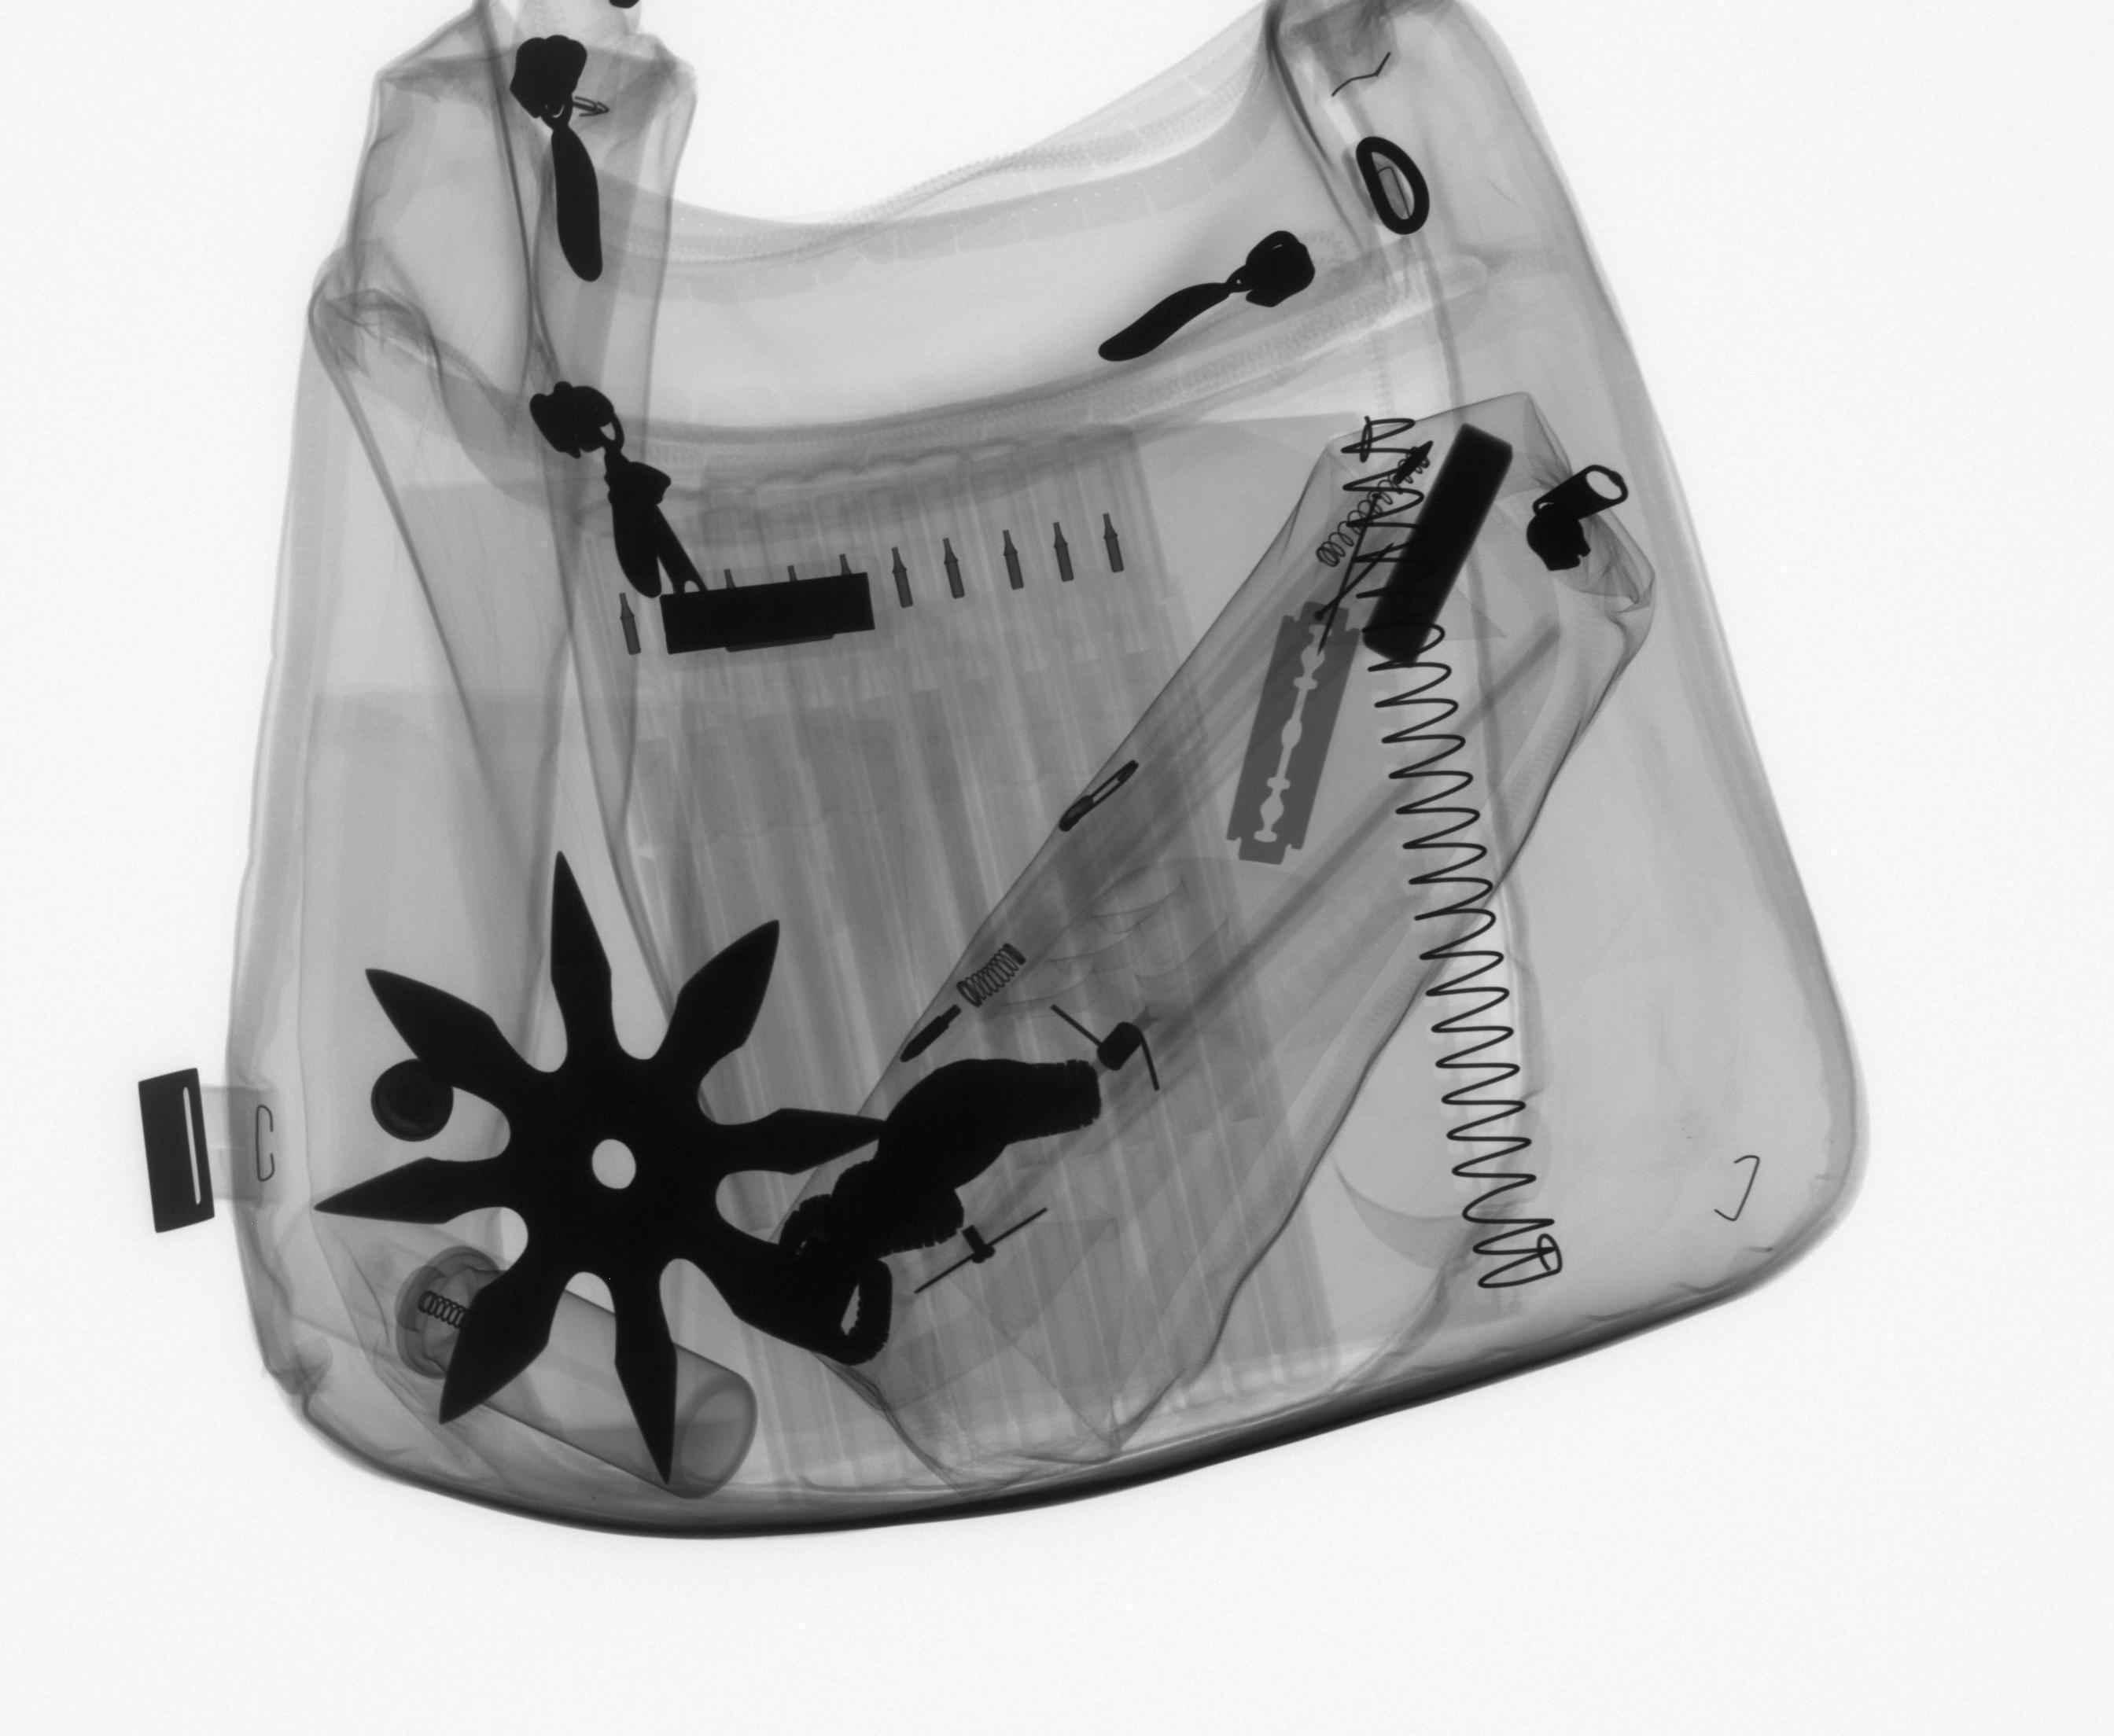RazorBlade: (1222, 595, 1366, 872)
Shuriken: (307, 846, 927, 1494)
